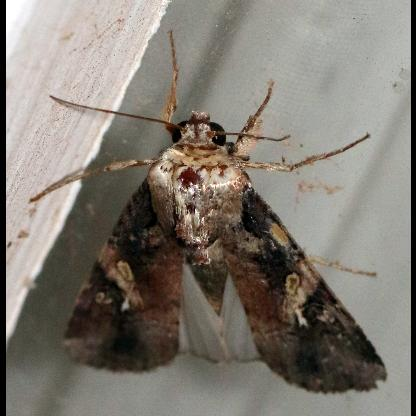Fall Armyworm Moth: (25, 27, 392, 399)
